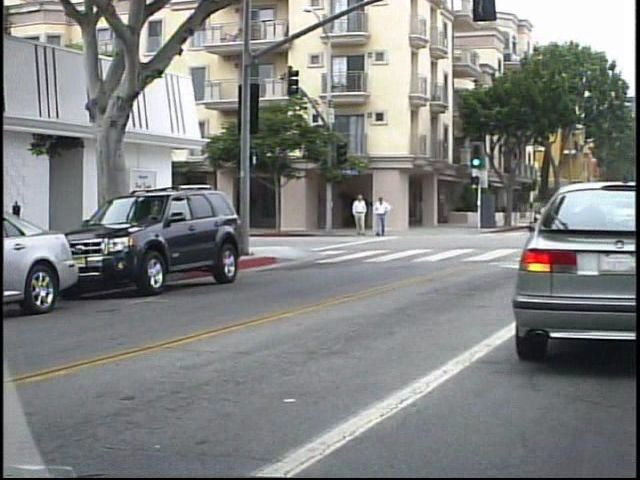person: (348, 192, 367, 243), (369, 193, 388, 238)
